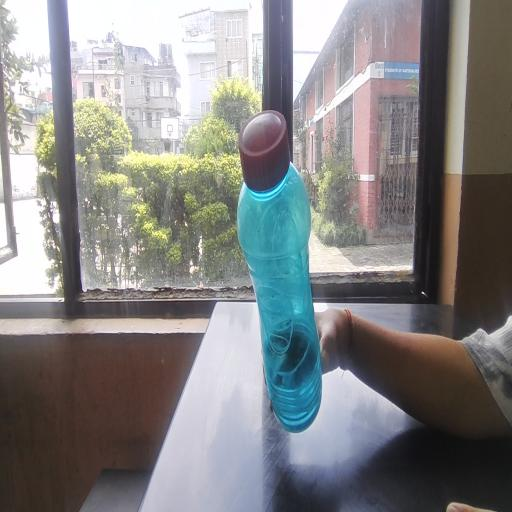Bottle: (219, 114, 341, 385)
